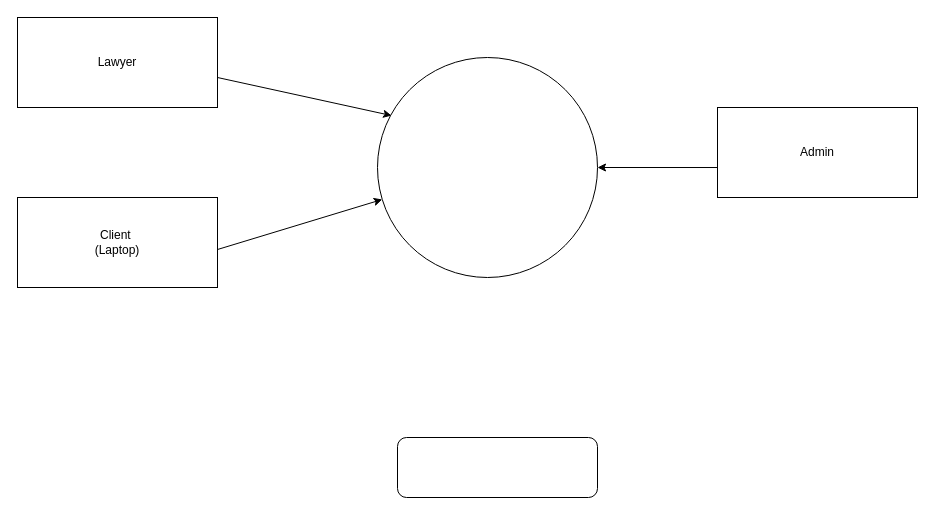
Some shapes in this 935 by 515 pixel diagram are drawn without their labels. The box of each missing label's shape, as (x1, y1, x2, y2) in pixels:
Case Files DB (Linux Server): (396, 436, 598, 498)
Secure Law Firm Network System: (376, 56, 598, 278)
